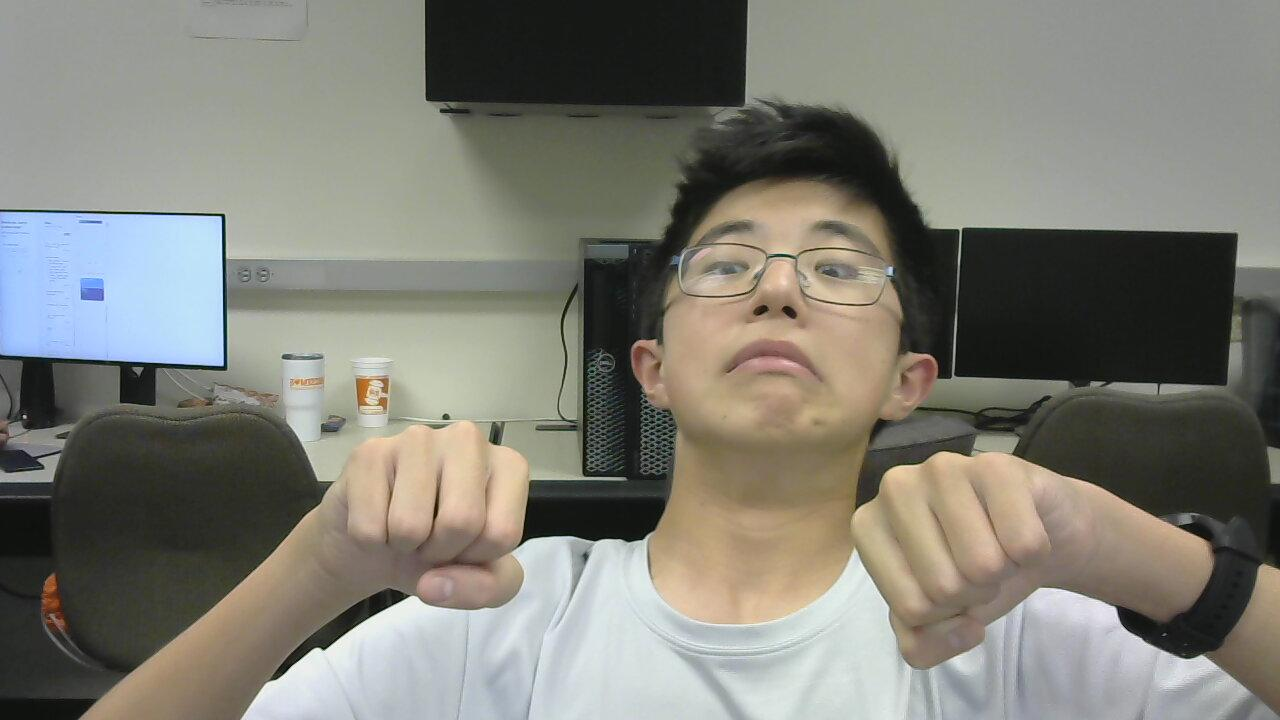fist: (831, 442, 1074, 663), (331, 412, 559, 624)
